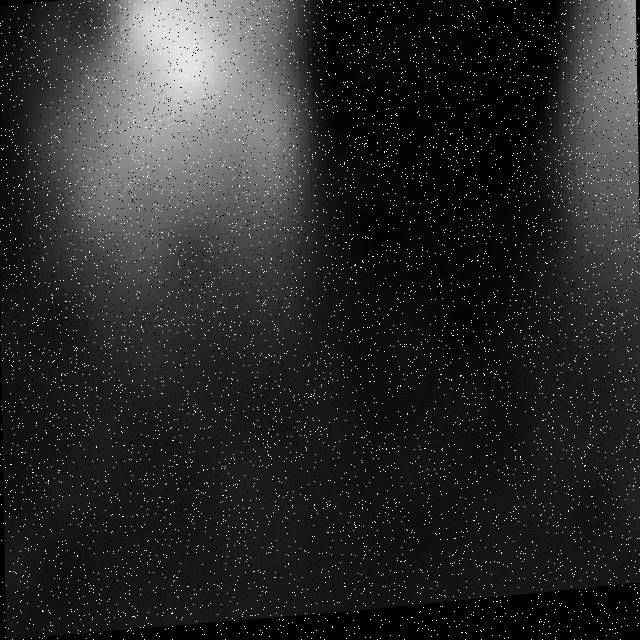person: (31, 1, 312, 306), (515, 1, 640, 403)
